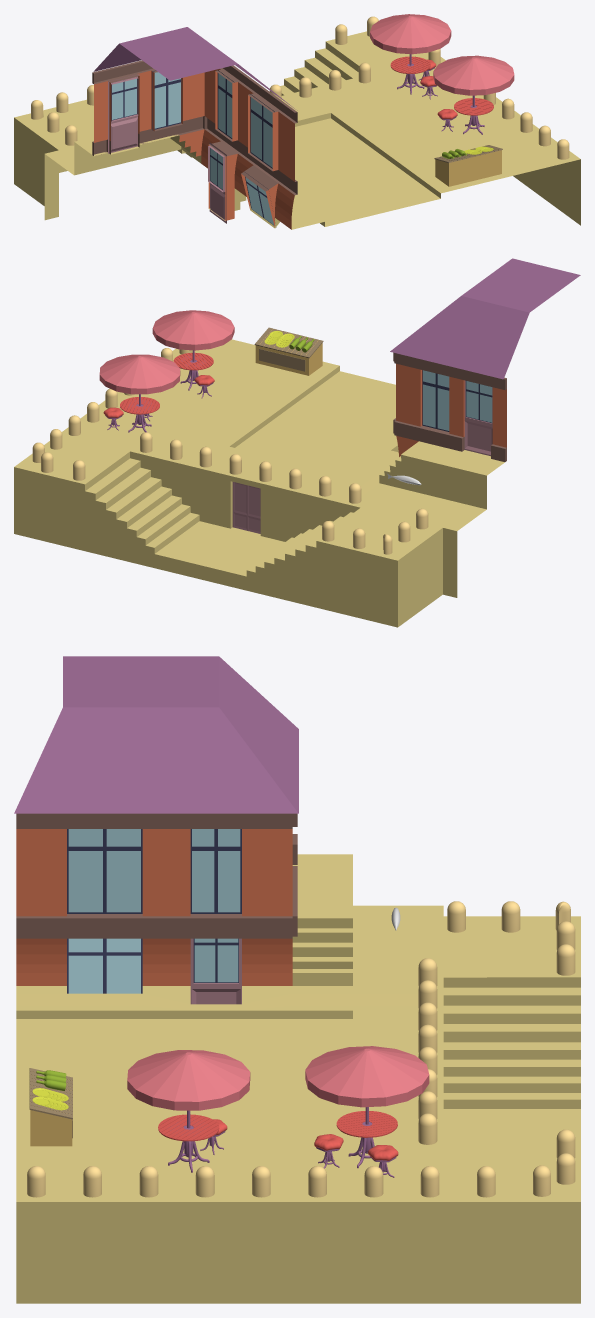
File: Street.fbx
3 renders of one model, top to bottom at view 1: azimuth 30°, elevation 25°; view 2: azimuth 150°, elevation 25°; view 3: azimuth 270°, elevation 25°, orthographic. The views are drawn at different scales.
Visible parts, largest first — view 1: Plane.009, Plane.006, Plane.010, Plane.011, Cylinder.023, Cylinder.007, Cylinder.005, Cube.003, Plane.014, Cylinder.013, Plane.015, Cylinder.012 (+5 smaller); view 2: Plane.009, Plane.006, Plane.011, Cylinder.007, Cylinder.023, Cylinder.012, Cylinder.005, Plane.010, Plane.016, Cylinder.013, Plane.014, Plane.015 (+5 smaller); view 3: Plane.009, Plane.006, Plane.011, Plane.010, Cylinder.005, Cylinder.007, Cylinder.023, Cylinder.012, Cylinder.013, Plane.013, Plane.012, Cube.003 (+3 smaller).
Part boxes in pixels (left/top/right/bottom): Plane.009: left=14, top=31, right=580, bottom=226; Plane.006: left=74, top=60, right=324, bottom=229; Plane.010: left=152, top=70, right=276, bottom=227; Plane.011: left=93, top=27, right=297, bottom=110; Cylinder.023: left=433, top=55, right=514, bottom=95; Cylinder.007: left=370, top=14, right=451, bottom=54; Cylinder.005: left=335, top=16, right=569, bottom=159; Cube.003: left=435, top=150, right=501, bottom=186; Plane.014: left=108, top=74, right=139, bottom=153; Cylinder.013: left=31, top=85, right=93, bottom=145; Plane.015: left=112, top=78, right=137, bottom=120; Cylinder.012: left=269, top=62, right=370, bottom=99; Plane.009: left=14, top=339, right=486, bottom=627; Plane.006: left=346, top=352, right=506, bottom=509; Plane.011: left=390, top=258, right=580, bottom=379; Cylinder.007: left=99, top=354, right=180, bottom=394; Cylinder.023: left=152, top=310, right=234, bottom=350; Cylinder.012: left=140, top=432, right=361, bottom=503; Cylinder.005: left=32, top=348, right=191, bottom=480; Plane.010: left=422, top=370, right=449, bottom=431; Plane.016: left=232, top=482, right=260, bottom=533; Cylinder.013: left=322, top=508, right=428, bottom=554; Plane.014: left=464, top=380, right=492, bottom=456; Plane.015: left=466, top=381, right=492, bottom=423; Plane.009: left=16, top=905, right=580, bottom=1303; Plane.006: left=16, top=813, right=352, bottom=1018; Plane.011: left=14, top=656, right=298, bottom=813; Plane.010: left=67, top=829, right=241, bottom=993; Cylinder.005: left=27, top=1129, right=575, bottom=1197; Cylinder.007: left=305, top=1046, right=429, bottom=1107; Cylinder.023: left=127, top=1050, right=250, bottom=1110; Cylinder.012: left=418, top=958, right=437, bottom=1144; Cylinder.013: left=447, top=901, right=575, bottom=975; Plane.013: left=193, top=938, right=238, bottom=982; Plane.012: left=190, top=938, right=241, bottom=1004; Cube.003: left=30, top=1079, right=72, bottom=1146.
Bounding box in the file's own units: 2285 × 1268 × 1850.
